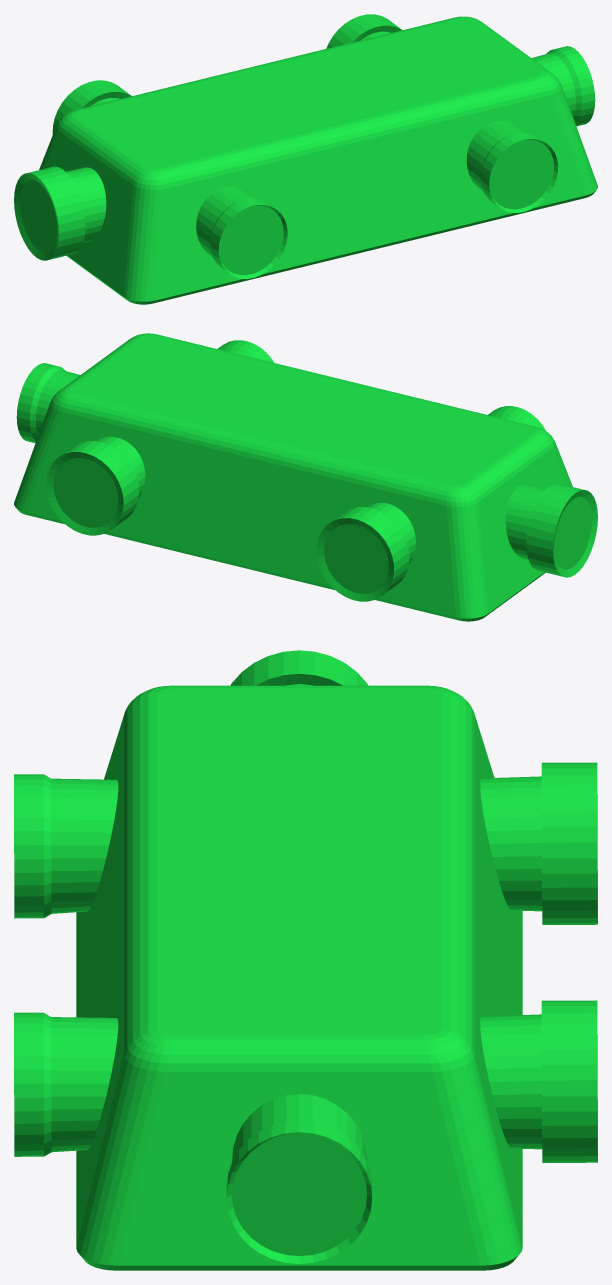
Rendered from 2num.fbx.
3 views of the same model, one above another, from view 1: azimuth 30°, elevation 25°; view 2: azimuth 150°, elevation 25°; view 3: azimuth 270°, elevation 25° (orthographic). The views are drawn at different scales.
Parts seen in each view (by area): view 1: Cube.020; view 2: Cube.020; view 3: Cube.020.
Part boxes in pixels (<box>): Cube.020: <box>14,14,597,304</box>; Cube.020: <box>14,333,597,621</box>; Cube.020: <box>14,650,597,1270</box>.
Bounding box in the file's own units: 4.98 × 1 × 2.59.
